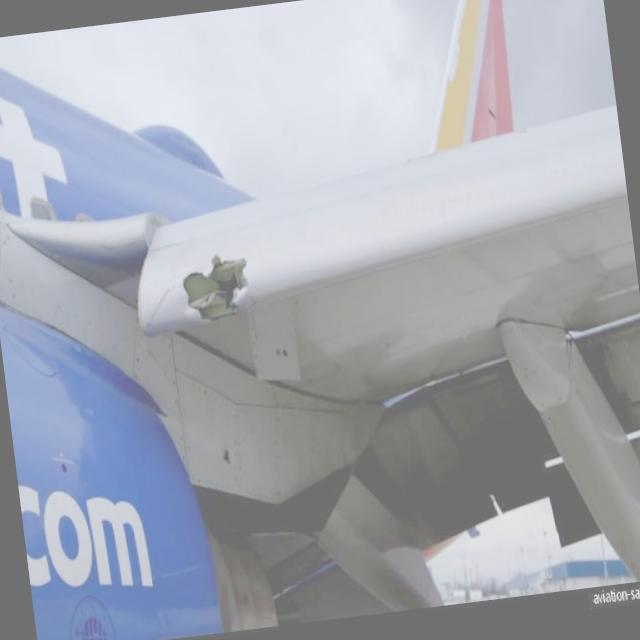crack: (181, 251, 257, 324)
